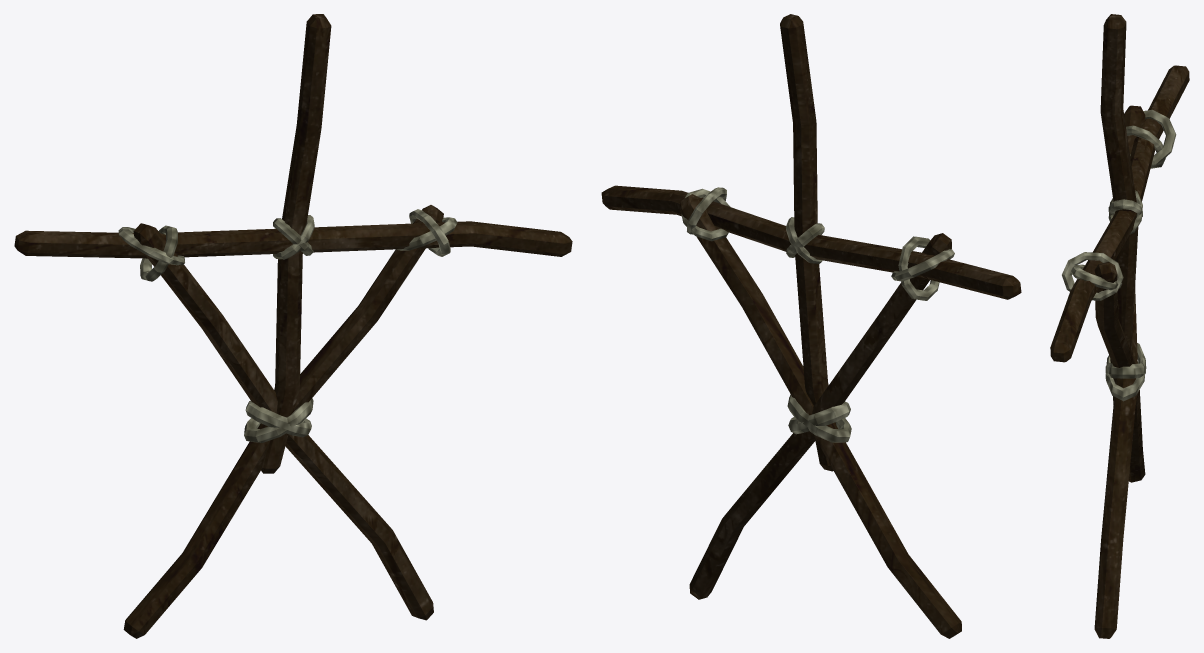
The model's file is WitchSymbol.fbx.
3 views of the same model, side by side, from view 1: azimuth 30°, elevation 25°; view 2: azimuth 150°, elevation 25°; view 3: azimuth 270°, elevation 25° (orthographic). The views are drawn at different scales.
Visible parts, largest first — view 1: WitchDoll_LoPoly; view 2: WitchDoll_LoPoly; view 3: WitchDoll_LoPoly.
Boxes of the visible parts, x1,y1,x2,y2 form: WitchDoll_LoPoly: (14,14,572,638); WitchDoll_LoPoly: (601,14,1021,638); WitchDoll_LoPoly: (1050,14,1189,638).
Bounding box in the file's own units: 757 × 919 × 200.
Materials: 1 (1 with a texture image).
